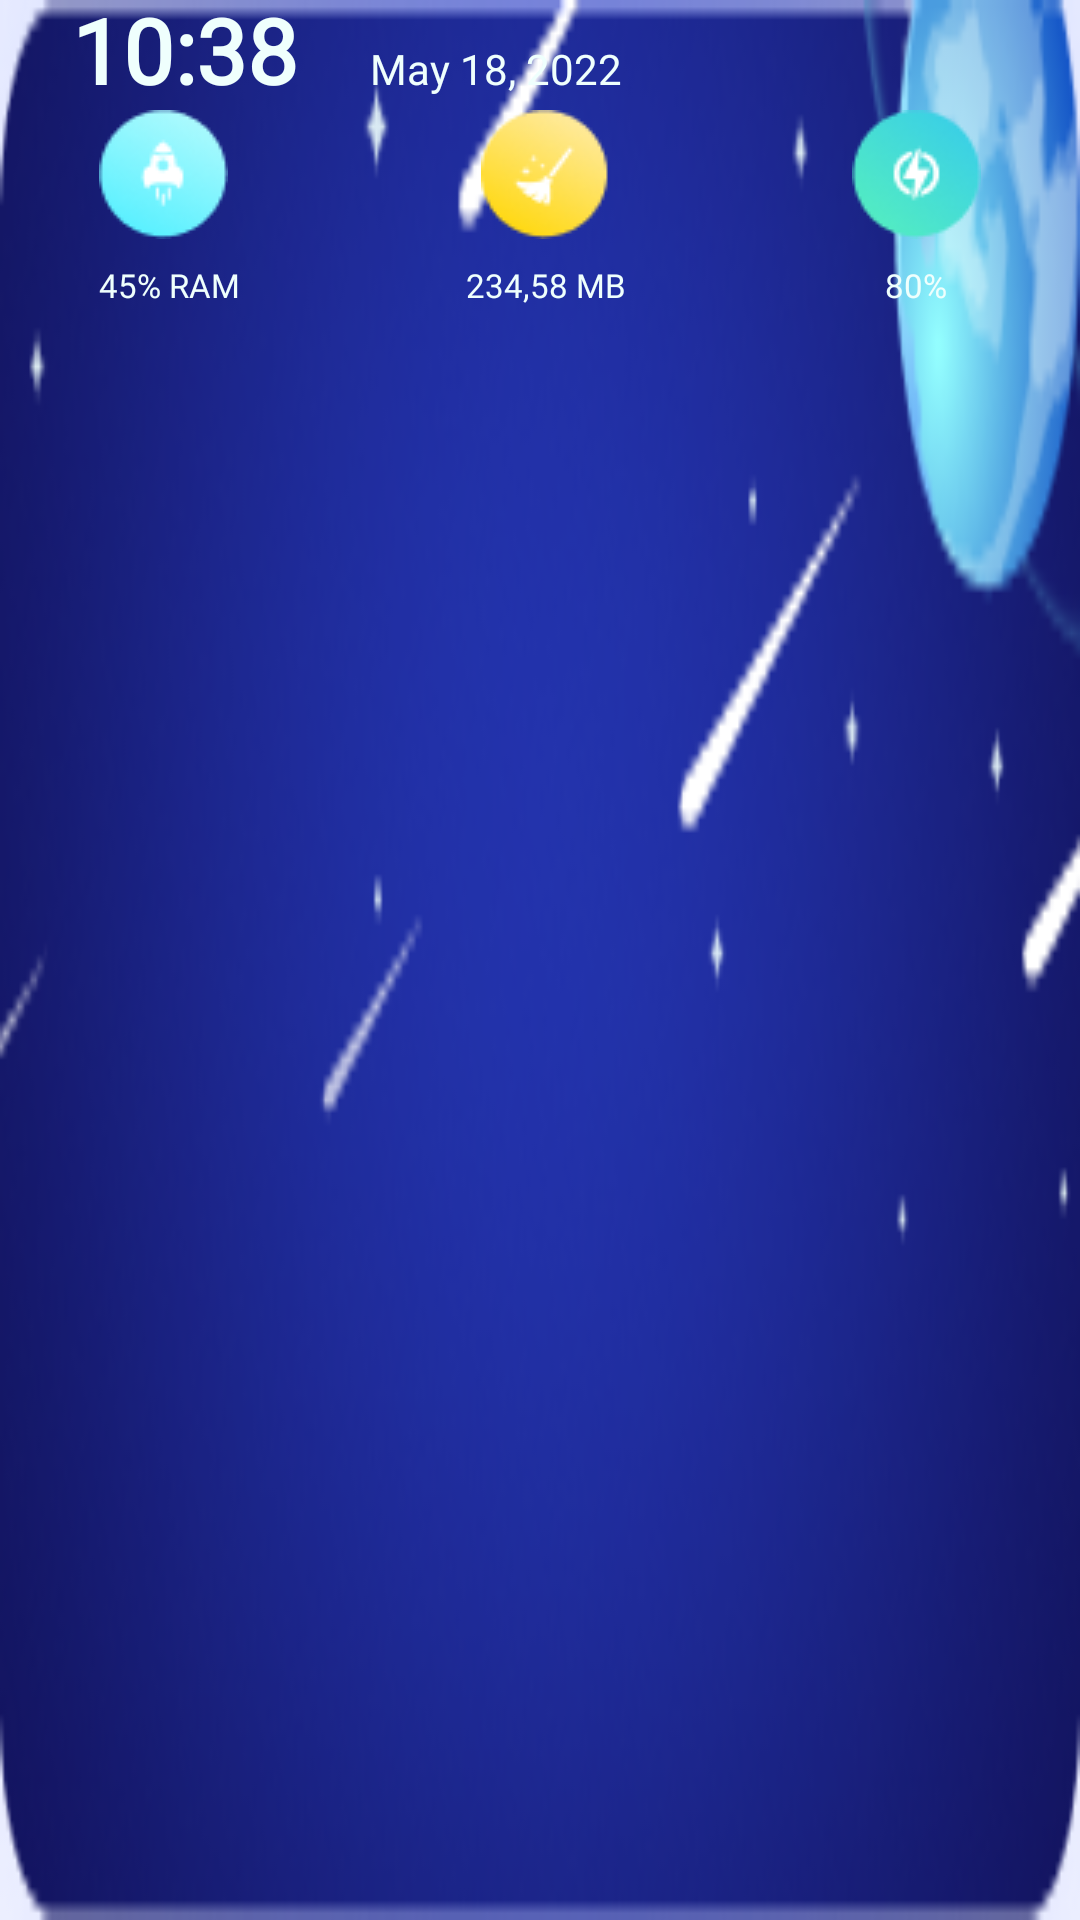

Point at icon controls on the screen. Image size 1080px x 1920px, points as [x,y].
battery save wiget: [916,174]
clean up widget: [544,174]
phone boot widget: [163,174]
